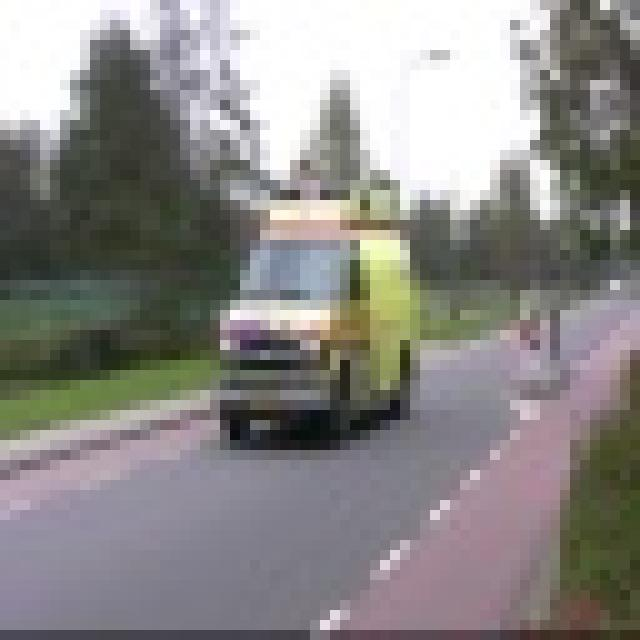Ambulance: (210, 170, 420, 440)
